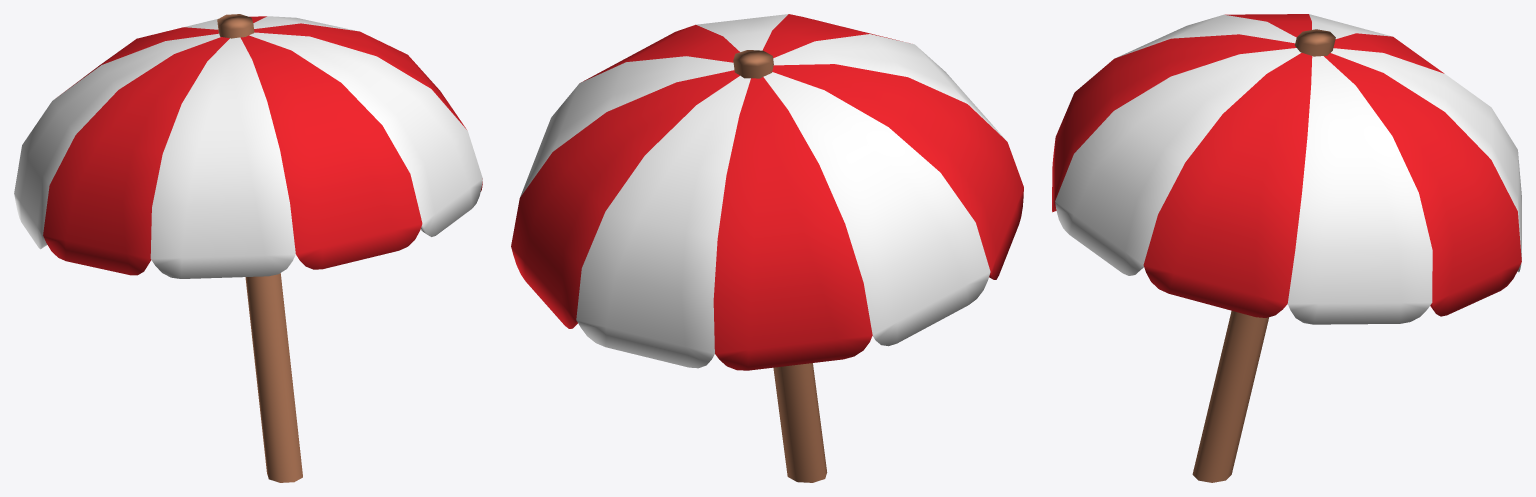
File: umbrella_red.fbx
3 renders of one model, left to right at view 1: azimuth 30°, elevation 25°; view 2: azimuth 150°, elevation 25°; view 3: azimuth 270°, elevation 25°, orthographic. The views are drawn at different scales.
Visible parts, largest first — view 1: umbrella_red; view 2: umbrella_red; view 3: umbrella_red.
Boxes of the visible parts, left/top/right/bottom form: umbrella_red: left=14, top=14, right=482, bottom=482; umbrella_red: left=511, top=14, right=1023, bottom=482; umbrella_red: left=1052, top=14, right=1521, bottom=482.
Bounding box in the file's own units: 1.84 × 1.79 × 1.75.
